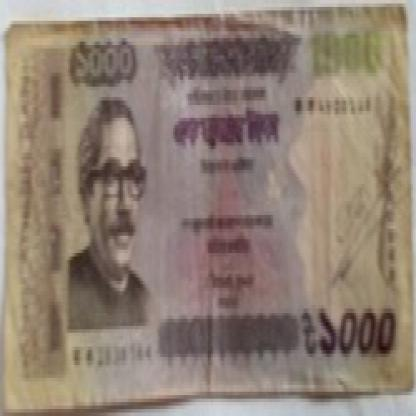One Thousand taka: (298, 305, 399, 364), (70, 42, 136, 90)
